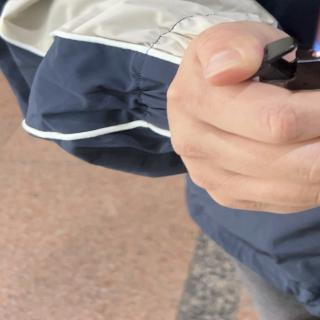fire: (313, 0, 320, 58)
